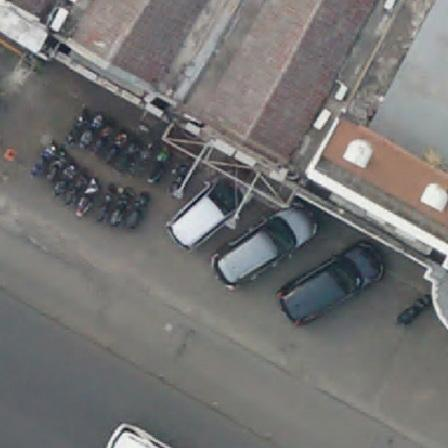Car: (286, 233, 383, 329), (225, 200, 314, 292), (174, 179, 237, 244), (102, 425, 177, 448)
Motorcycle: (394, 291, 431, 323), (124, 189, 151, 229), (62, 103, 87, 143), (28, 135, 55, 172), (78, 109, 105, 144), (76, 175, 98, 217), (148, 146, 168, 190), (107, 126, 127, 165), (100, 182, 117, 220), (49, 149, 68, 181), (170, 157, 187, 191), (58, 166, 77, 196), (120, 139, 137, 171), (68, 172, 84, 206), (98, 120, 111, 156)
